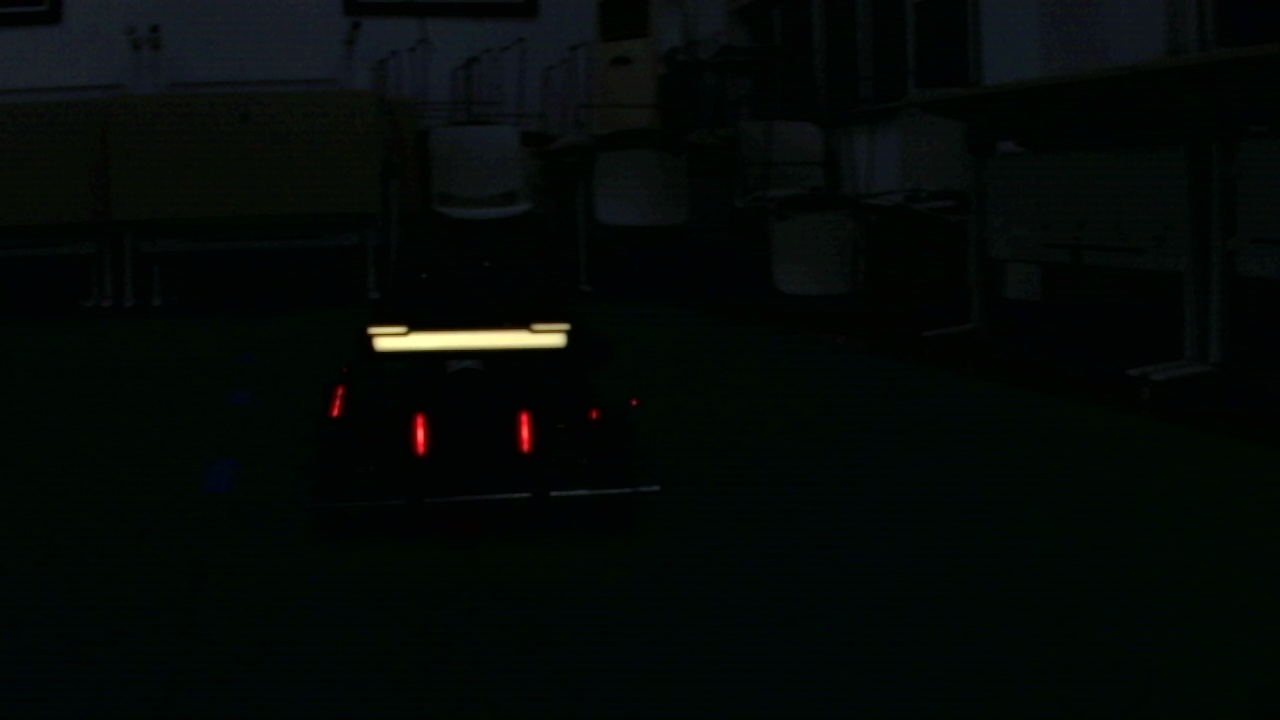lamp: (412, 411, 428, 456), (518, 413, 532, 455)
pair1: (412, 411, 532, 450)
